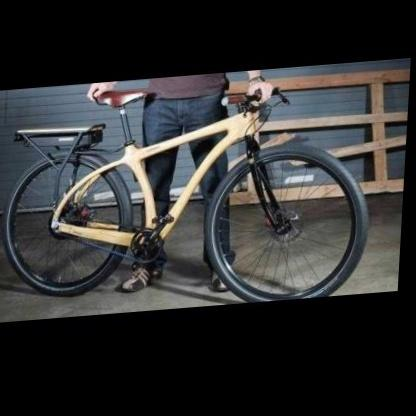Bicycle: (0, 117, 379, 307)
